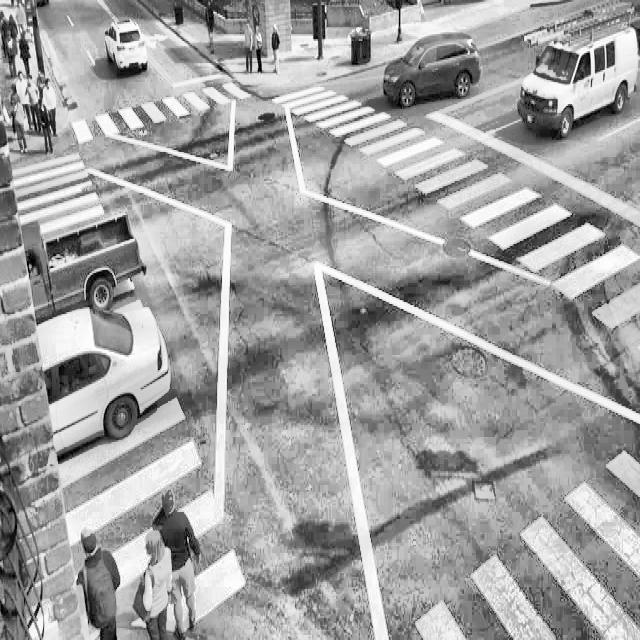crosswalk: (6, 151, 260, 640), (263, 80, 640, 336), (410, 440, 640, 640), (67, 78, 261, 151), (67, 80, 257, 150)
